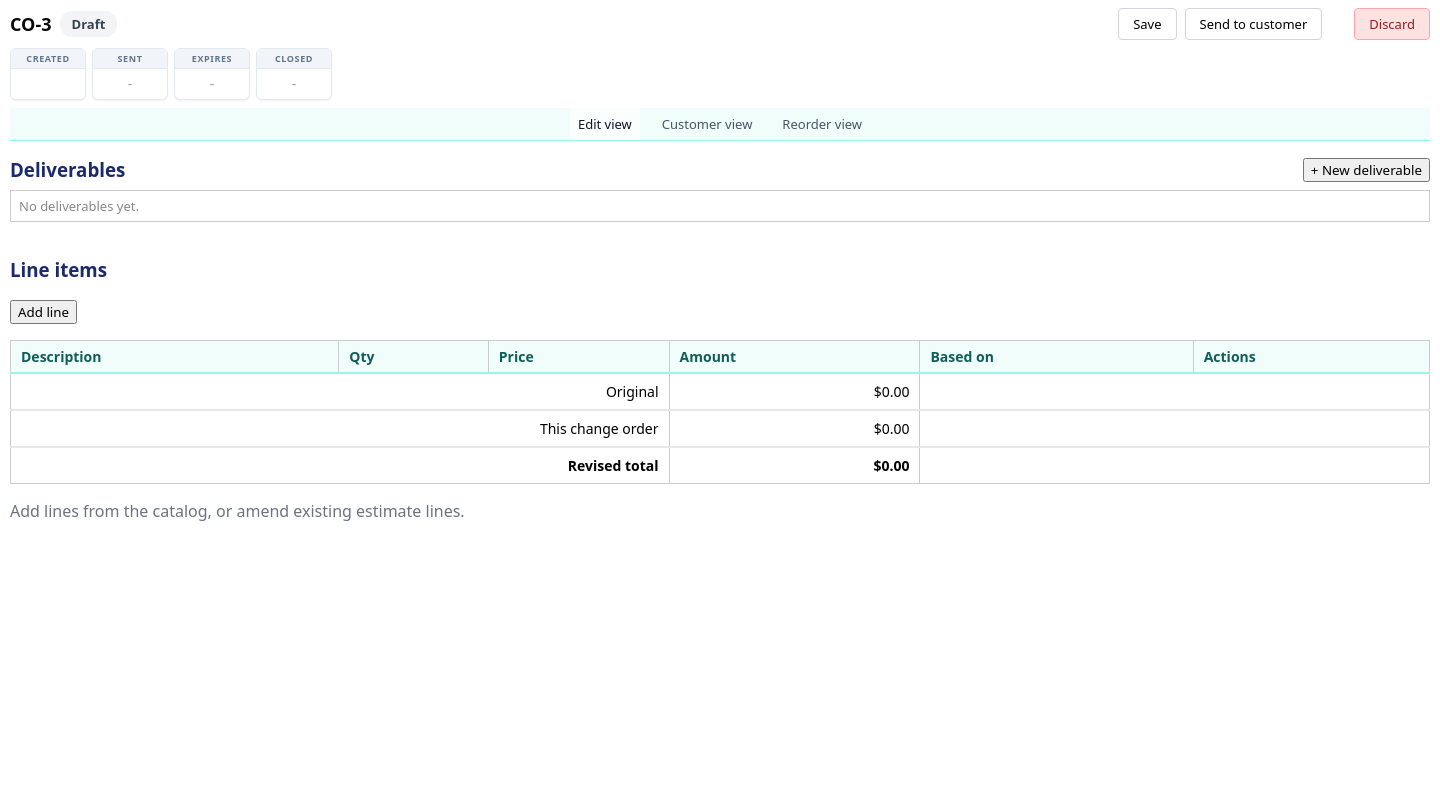
Test: ChangeOrderPanel error display › shows a field error (not an alert) when adding a deliverable without a description
The image size is (1440, 810).
Click the button "+ New deliverable" at [1366, 170], box [1303, 158, 1430, 182]
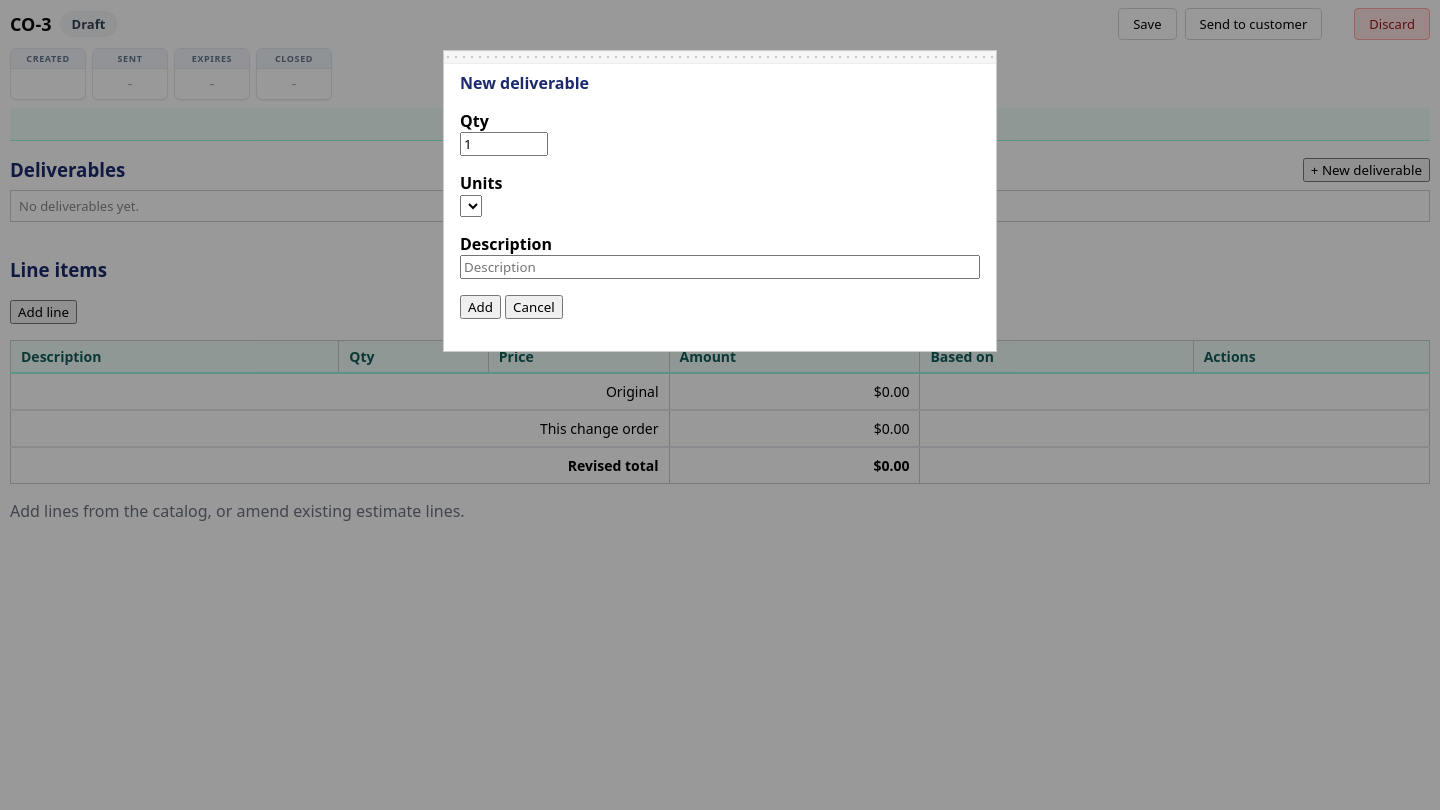
Click the button "Add" at [480, 307], box [460, 295, 501, 319]
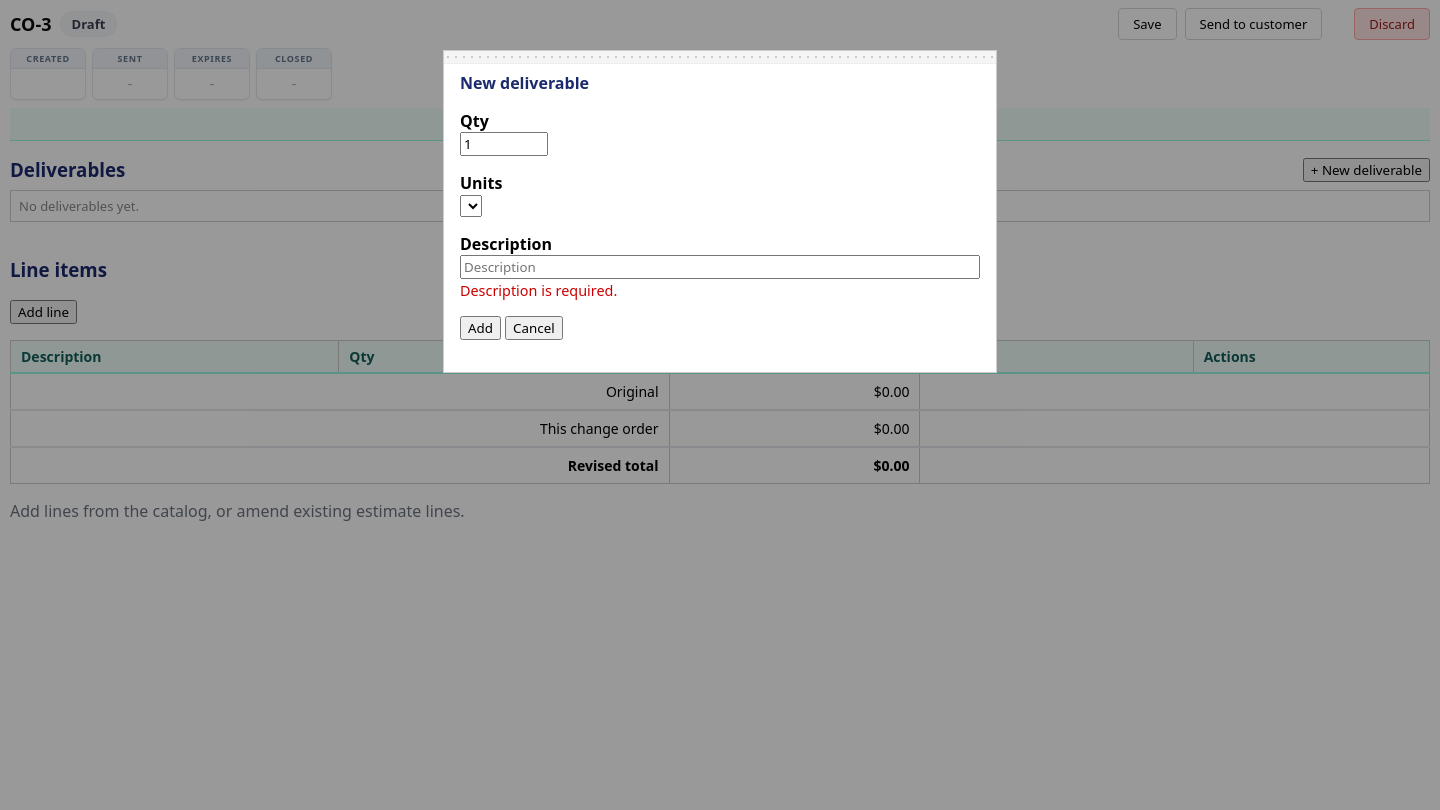
Now the text "Description is required." is shown, box [460, 281, 617, 300]
